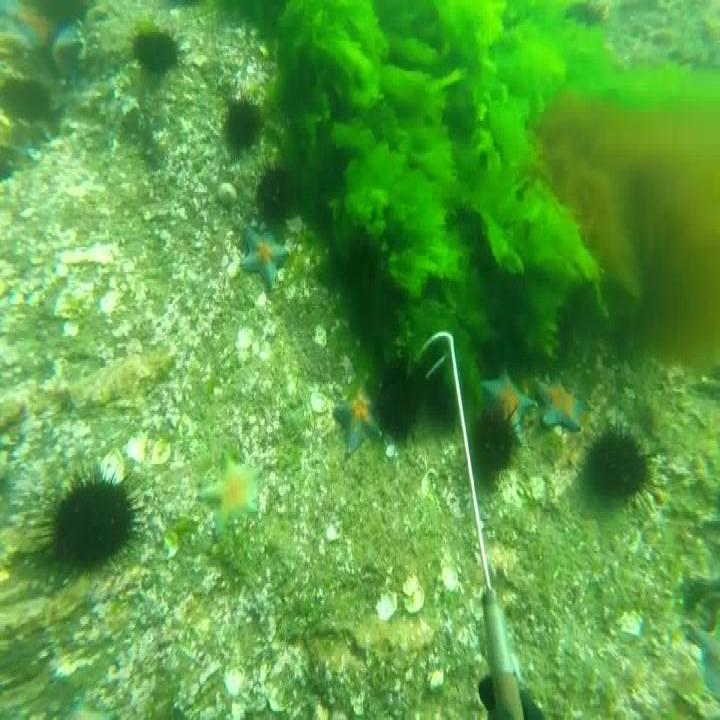echinus: (31, 455, 141, 589), (583, 418, 662, 516), (469, 400, 529, 473), (375, 358, 416, 444), (222, 89, 266, 151), (258, 165, 294, 226), (130, 28, 182, 70)
scallop: (402, 572, 426, 622), (102, 446, 125, 484), (150, 439, 172, 469), (377, 590, 396, 624), (440, 562, 458, 596), (97, 290, 118, 314), (311, 388, 328, 413), (315, 326, 328, 348)
starfish: (199, 450, 261, 544), (243, 217, 289, 288), (537, 363, 586, 428), (334, 386, 380, 452), (481, 366, 521, 438)
